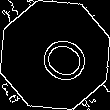O_NW: (23, 24, 87, 86)
